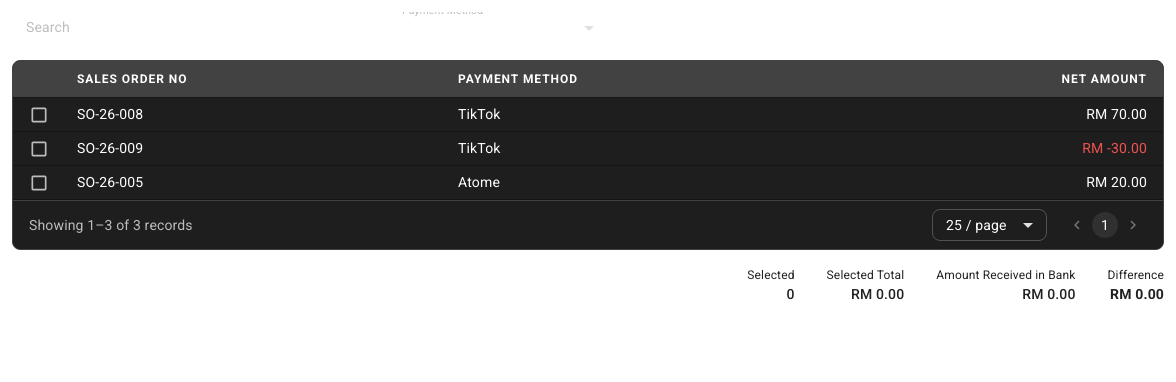
Scenario: SettlementRowPicker › warns on mixed methods, naming each with its count
Click the checkbox named "SO-26-008 TikTok".
click(39, 115)  # box left=29, top=105, right=49, bottom=125
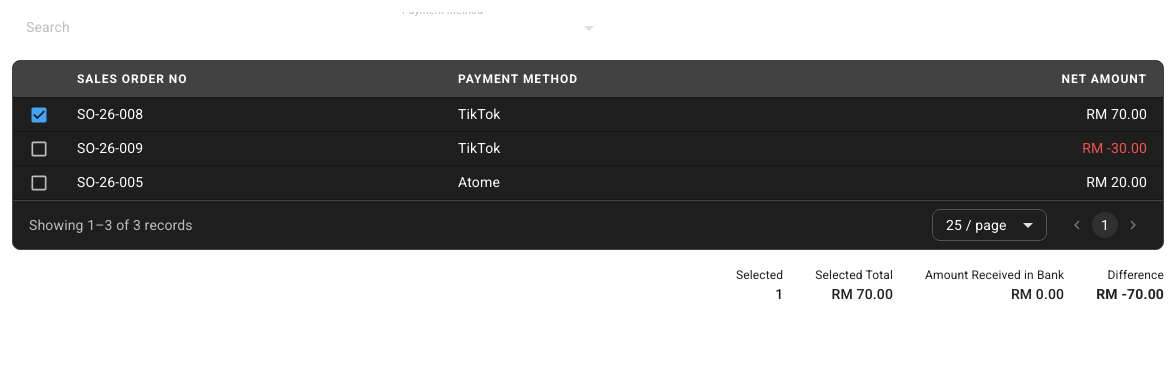
Click the checkbox named "SO-26-005 Atome".
click(39, 183)  # box left=29, top=173, right=49, bottom=193
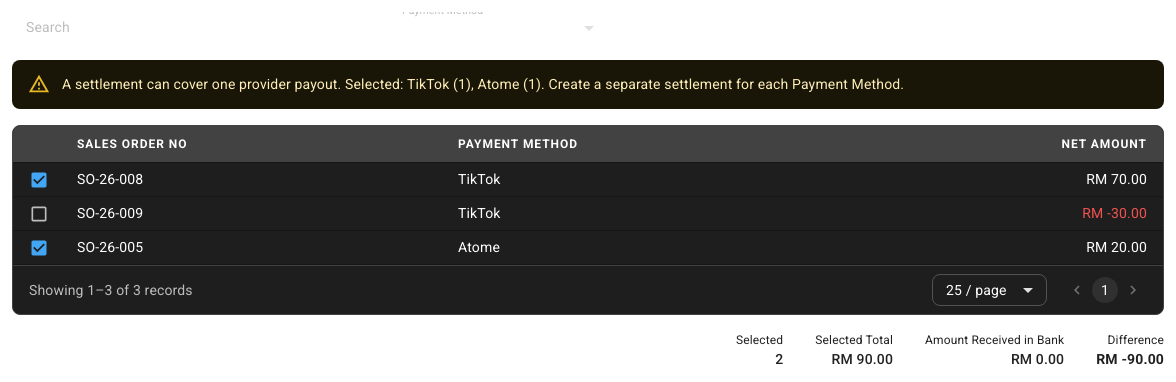
Result: the message with test id "mixed-methods-warning" shows "TikTok (1)" at left=407, top=76, right=541, bottom=92
Result: the message with test id "mixed-methods-warning" shows "Atome (1)" at left=407, top=76, right=541, bottom=92
Result: the message with test id "mixed-methods-warning" shows "separate settlement" at left=541, top=76, right=904, bottom=92
